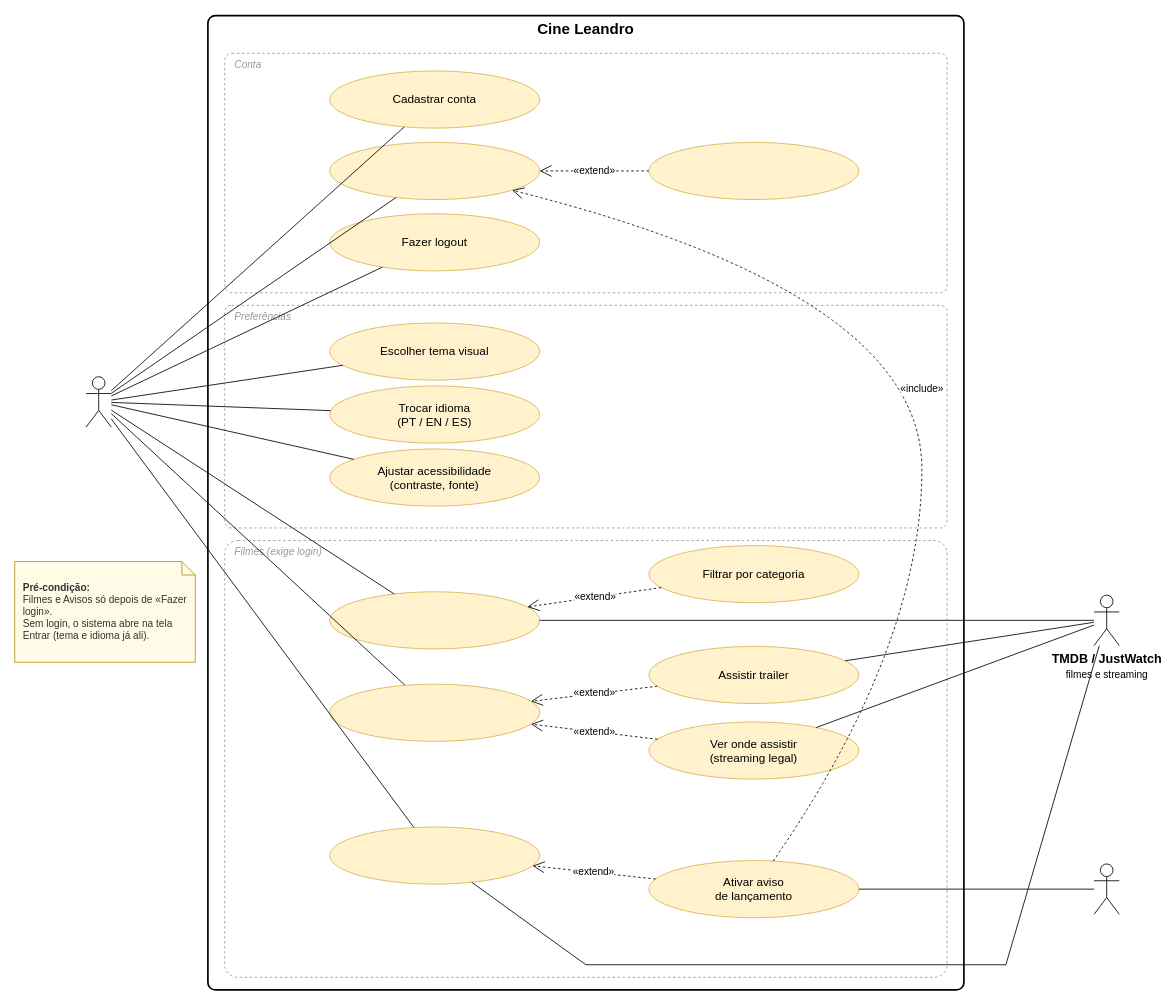
Image size: 1176x1005. Some labels were removed from this diagram. Here are the shapes that lost their labels. From the top down, the centre of each, then its label:
At [434,171]: "Fazer login".
At [753,171]: "Recuperar senha".
At [98,401]: "Usuário".
At [434,620]: "Ver filmes em cartaz".
At [434,712]: "Ver sinopse do filme".
At [434,855]: "Ver próximos lançamentos".
At [1106,888]: "Serviço de e-mail notificações".
